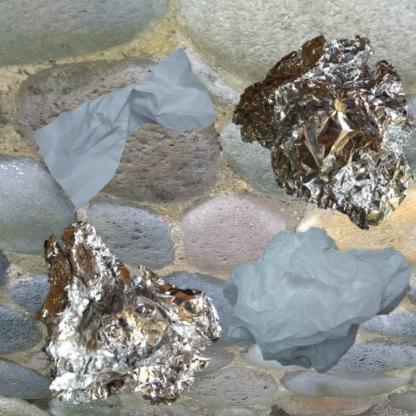aluminio: (10, 213, 246, 416), (213, 10, 416, 245)
bolsa: (213, 213, 416, 392)
papel: (10, 10, 251, 265)
